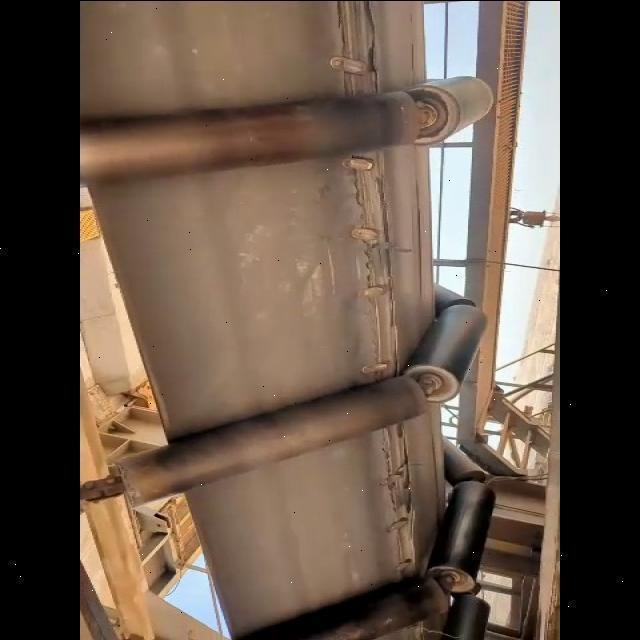Tear: (335, 149, 407, 385), (371, 418, 424, 583), (323, 0, 386, 100)
